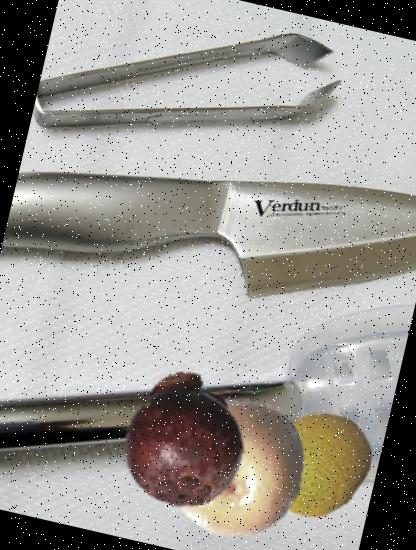Cantaloupe: (250, 397, 382, 528)
Kumquats: (148, 380, 322, 550)
Mangostan: (100, 356, 266, 522)
